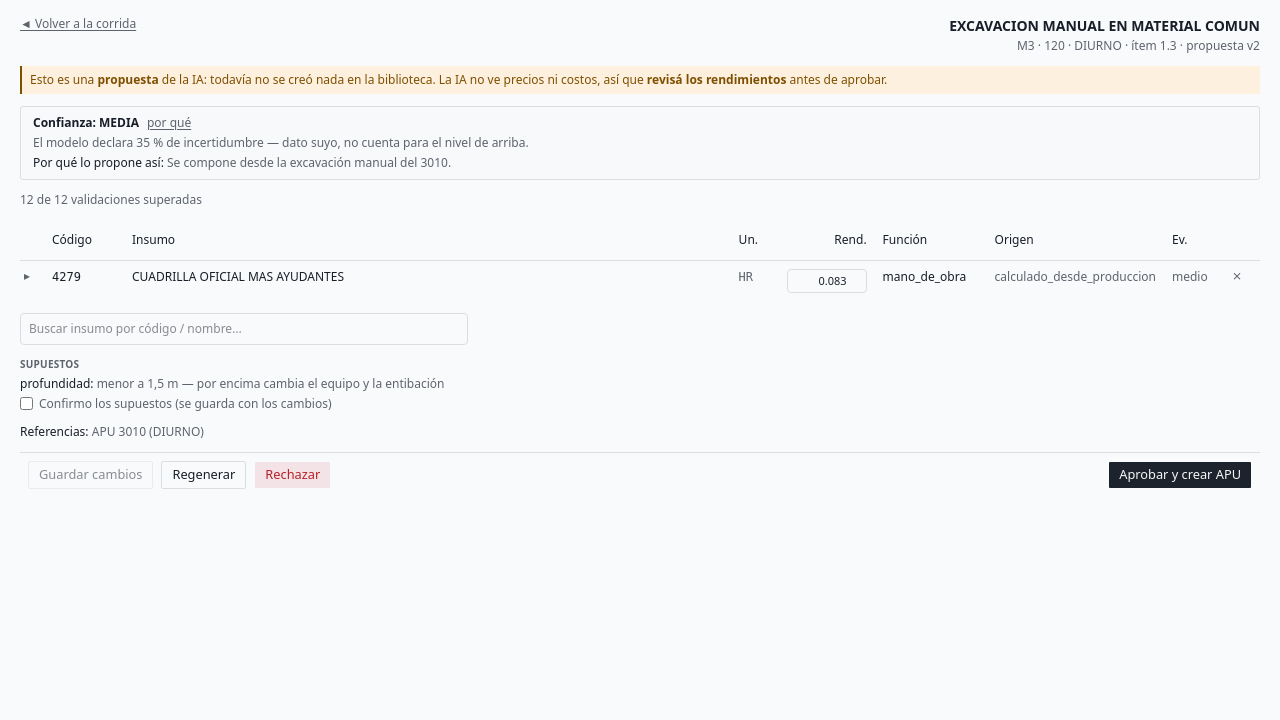
muestra el nivel de confianza y despliega el desglose al pulsar «por qué»
Expected: the text "Confianza: MEDIA" is shown, [33, 115, 139, 131]
Expected: the text "antecedentes" is not shown
Click the button "por qué": click(169, 123) [147, 115, 191, 131]
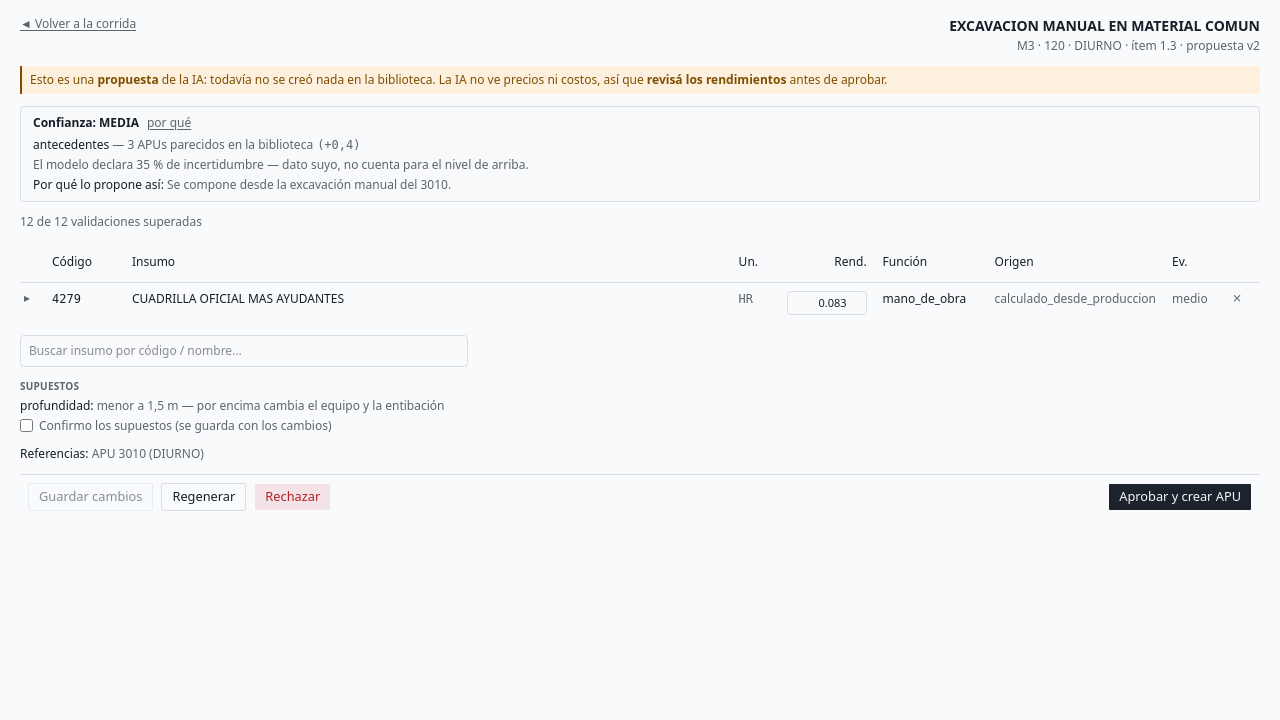
Expected: the text "antecedentes" is shown, [33, 136, 109, 153]
Expected: the list item "antecedentes — 3 APUs parecidos en la biblioteca(+0,4)" is shown, [33, 136, 360, 153]
